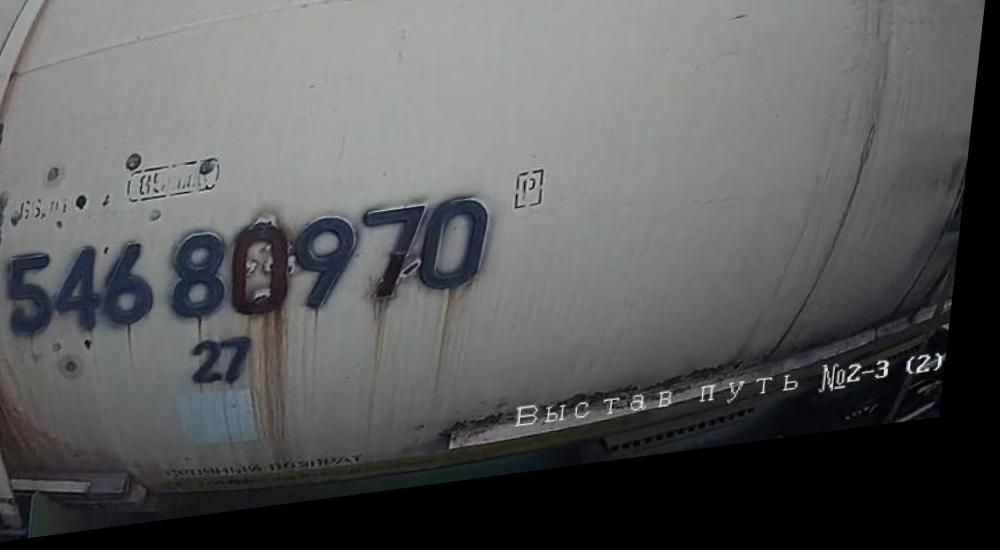Wagon-number: (1, 197, 508, 360)
